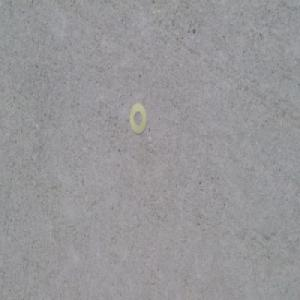Washer: (129, 103, 146, 137)
